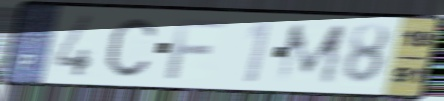1: (243, 19, 273, 85)
4: (51, 12, 93, 79)
8: (339, 22, 392, 89)
C: (104, 16, 159, 80)
F: (163, 17, 229, 81)
M: (272, 22, 349, 86)
